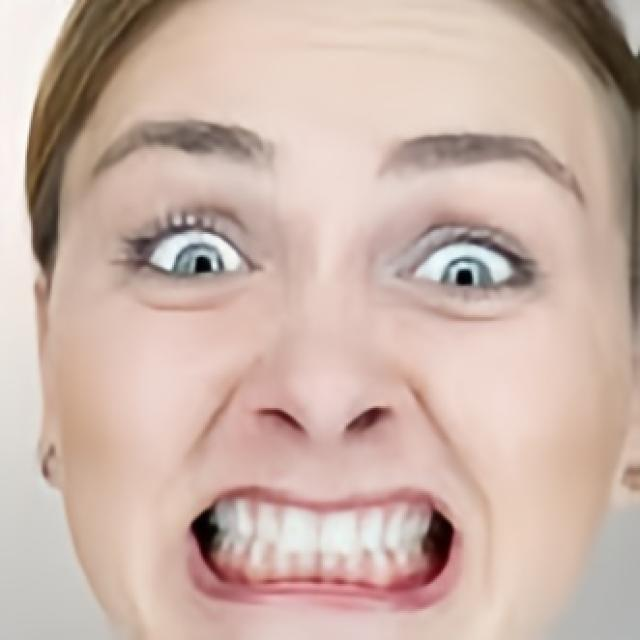fear: (52, 1, 640, 640)
